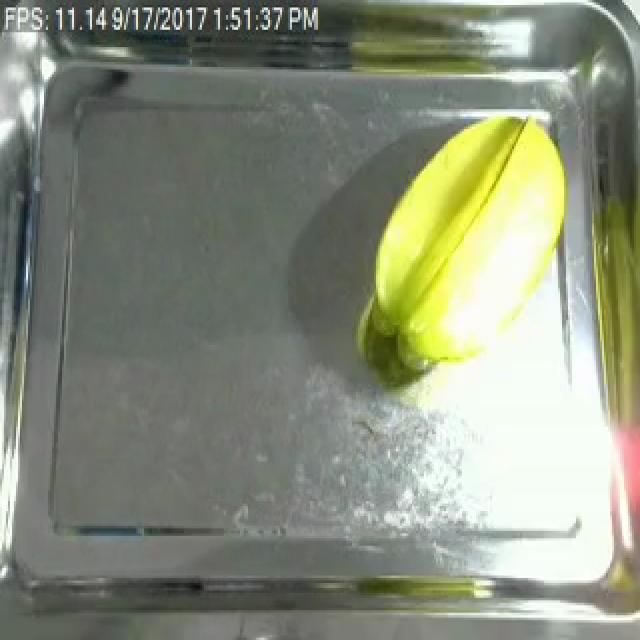fruit: (356, 104, 578, 380)
